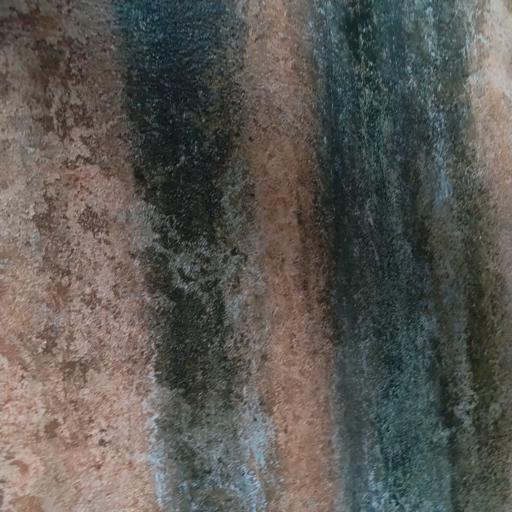algae: (73, 0, 512, 512)
